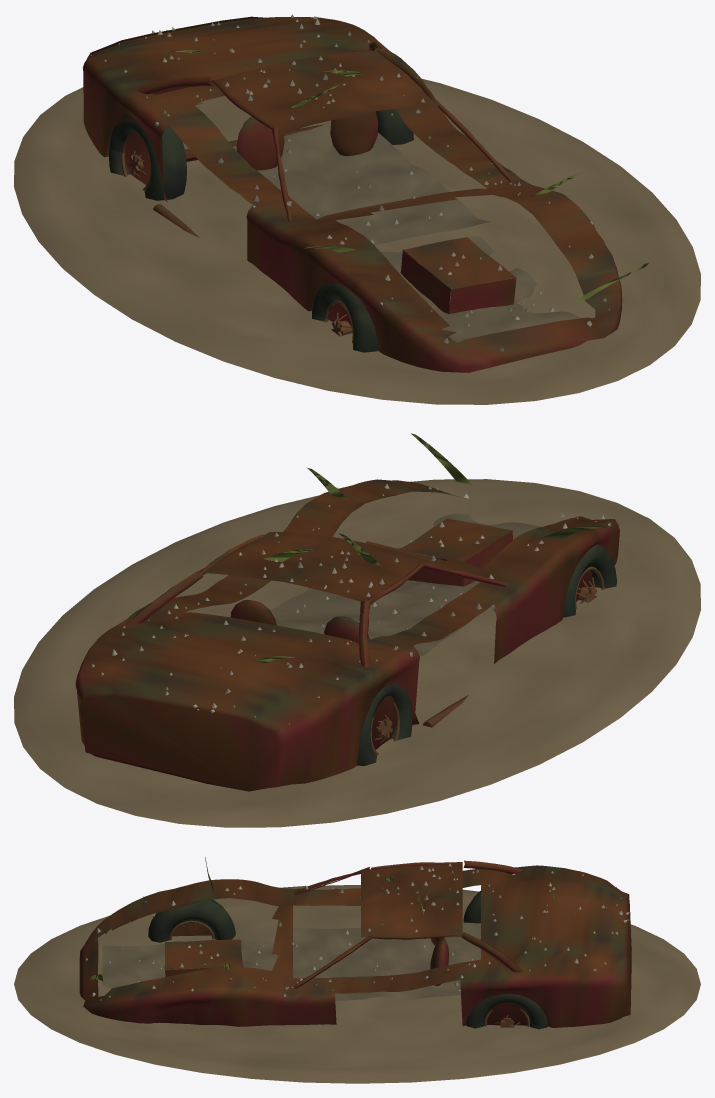
Rendered from wreck.glb.
3 views of the same model, one above another, from view 1: azimuth 30°, elevation 25°; view 2: azimuth 150°, elevation 25°; view 3: azimuth 270°, elevation 25° (orthographic). The views are drawn at different scales.
Parts seen in each view (by area): view 1: wreck; view 2: wreck; view 3: wreck.
Part boxes in pixels (x1=…): wreck: x1=14, y1=14, x2=700, y2=404; wreck: x1=14, y1=433, x2=700, y2=827; wreck: x1=14, y1=857, x2=700, y2=1083.
Bounding box in the file's own units: 3.7 × 1.18 × 5.4.
